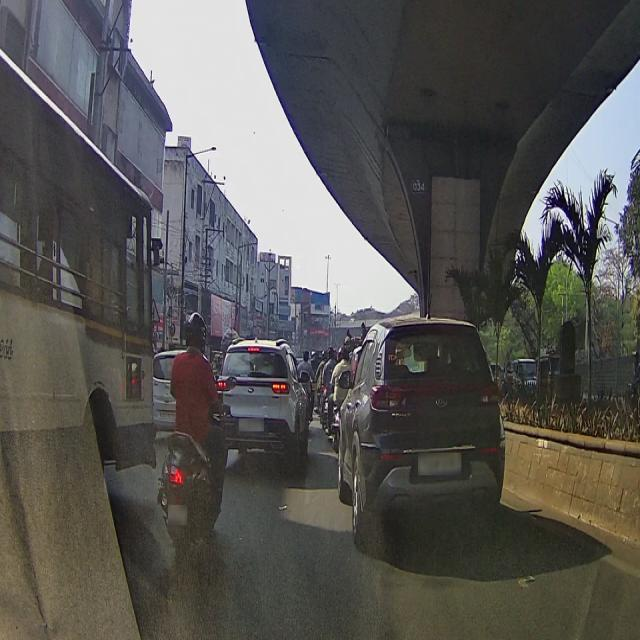side-road-left: (150, 297, 160, 322)
